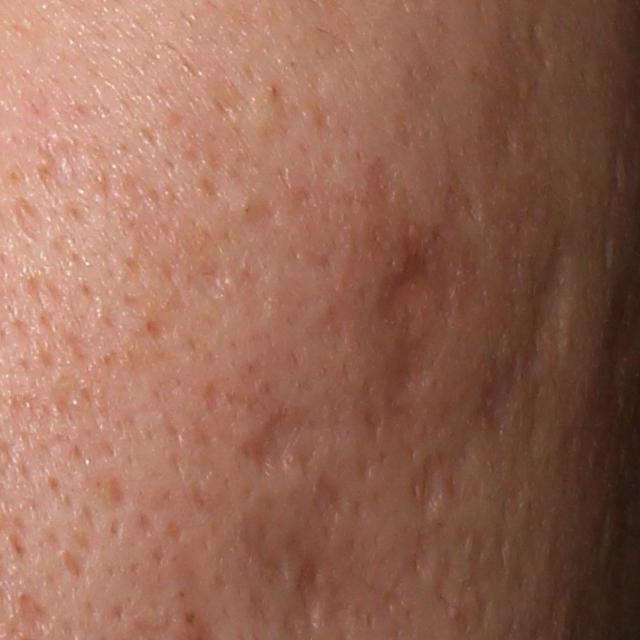atrophic_scar: (484, 229, 575, 437), (228, 401, 333, 482), (377, 315, 446, 411), (32, 133, 107, 210), (373, 250, 433, 331), (434, 151, 481, 226), (296, 550, 333, 636), (4, 198, 55, 253), (410, 455, 447, 523), (517, 5, 552, 75), (311, 473, 345, 541), (189, 254, 233, 303), (243, 190, 279, 233), (407, 534, 435, 587), (19, 592, 49, 636), (60, 546, 89, 581)
